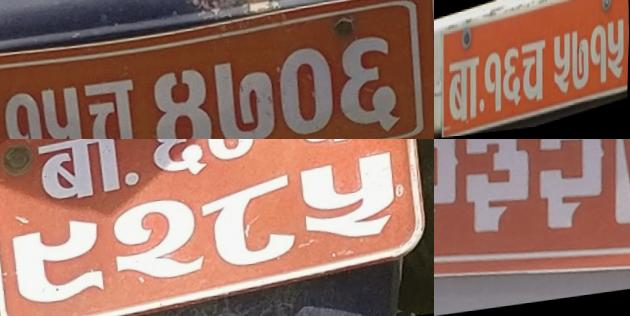0: (272, 46, 342, 139), (203, 139, 263, 173)
1: (0, 86, 53, 139), (587, 22, 610, 94), (482, 45, 504, 118)
2: (105, 194, 213, 295), (528, 139, 617, 255), (434, 139, 470, 253)
3: (456, 139, 542, 252)
4: (143, 62, 220, 139)
5: (295, 153, 406, 254), (37, 81, 93, 139), (550, 30, 572, 101), (606, 16, 627, 90)
6: (331, 34, 412, 139), (138, 139, 211, 188), (501, 42, 523, 116)
7: (206, 52, 283, 139), (602, 139, 630, 247), (569, 26, 591, 99)
8: (196, 174, 305, 279)
9: (3, 214, 114, 311)
ba: (29, 139, 134, 211), (445, 50, 482, 129)
cha: (77, 71, 147, 139), (519, 35, 549, 110)
pa: (280, 139, 363, 159)
